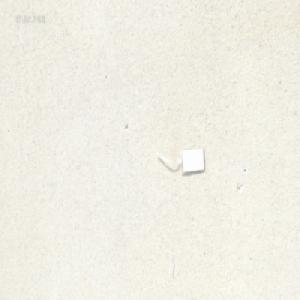LuggageTag: (156, 146, 205, 174)
